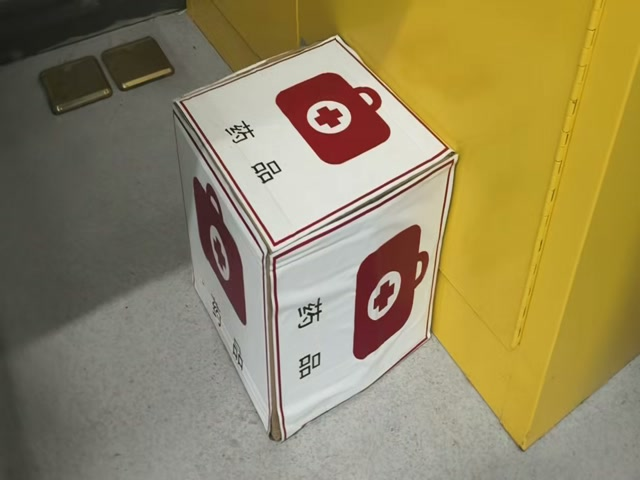Cube_medicine: (174, 37, 456, 257)
